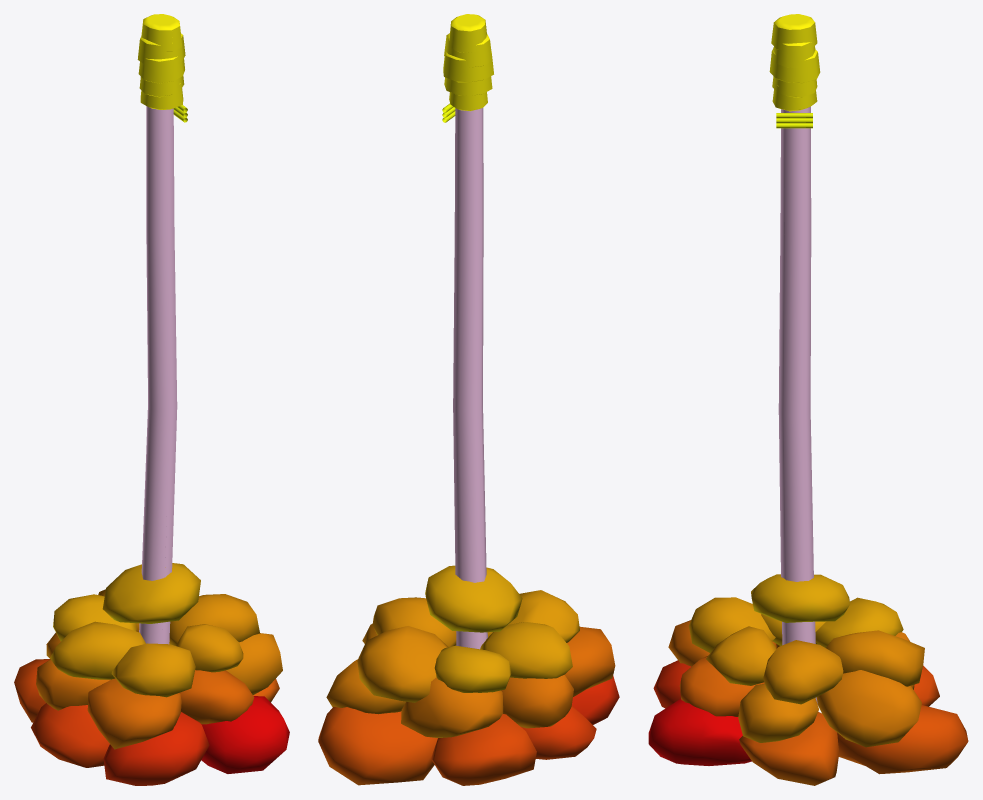
The model's file is camp_torch_stand.glb.
3 renders of one model, left to right at view 1: azimuth 30°, elevation 25°; view 2: azimuth 150°, elevation 25°; view 3: azimuth 270°, elevation 25°, orthographic.
Visible parts, largest first — view 1: Model; view 2: Model; view 3: Model.
Boxes of the visible parts, x1=… form: Model: x1=14, y1=14, x2=289, y2=785; Model: x1=318, y1=14, x2=619, y2=785; Model: x1=648, y1=14, x2=968, y2=785.
Size of the model in its own units: 0.6016 by 1.8 by 0.696.
